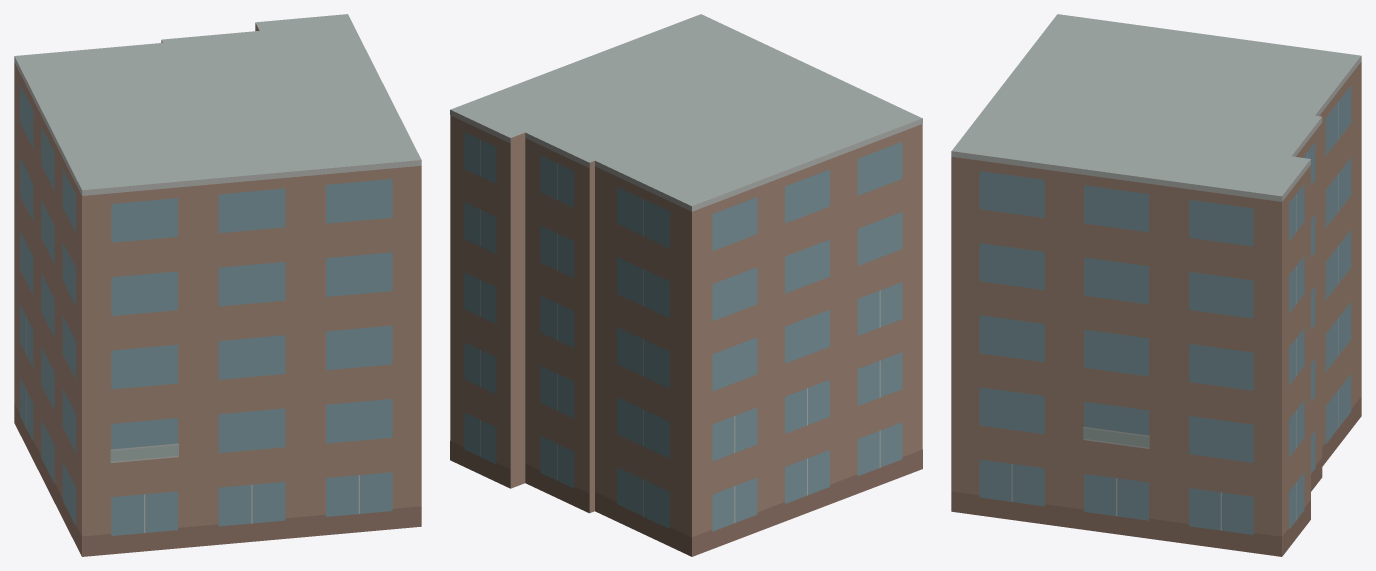
The model's file is survey-upis-32657855.glb.
3 renders of one model, left to right at view 1: azimuth 30°, elevation 25°; view 2: azimuth 150°, elevation 25°; view 3: azimuth 270°, elevation 25°, orthographic. The views are drawn at different scales.
Parts seen in each view (by area): view 1: survey-upis-32657855.tmp; view 2: survey-upis-32657855.tmp; view 3: survey-upis-32657855.tmp.
Boxes of the visible parts, x1,y1,x2,y2 form: survey-upis-32657855.tmp: [14, 14, 421, 556]; survey-upis-32657855.tmp: [450, 14, 922, 556]; survey-upis-32657855.tmp: [951, 14, 1361, 556].
Size of the model in its own units: 17.04 by 15.7 by 16.19.
